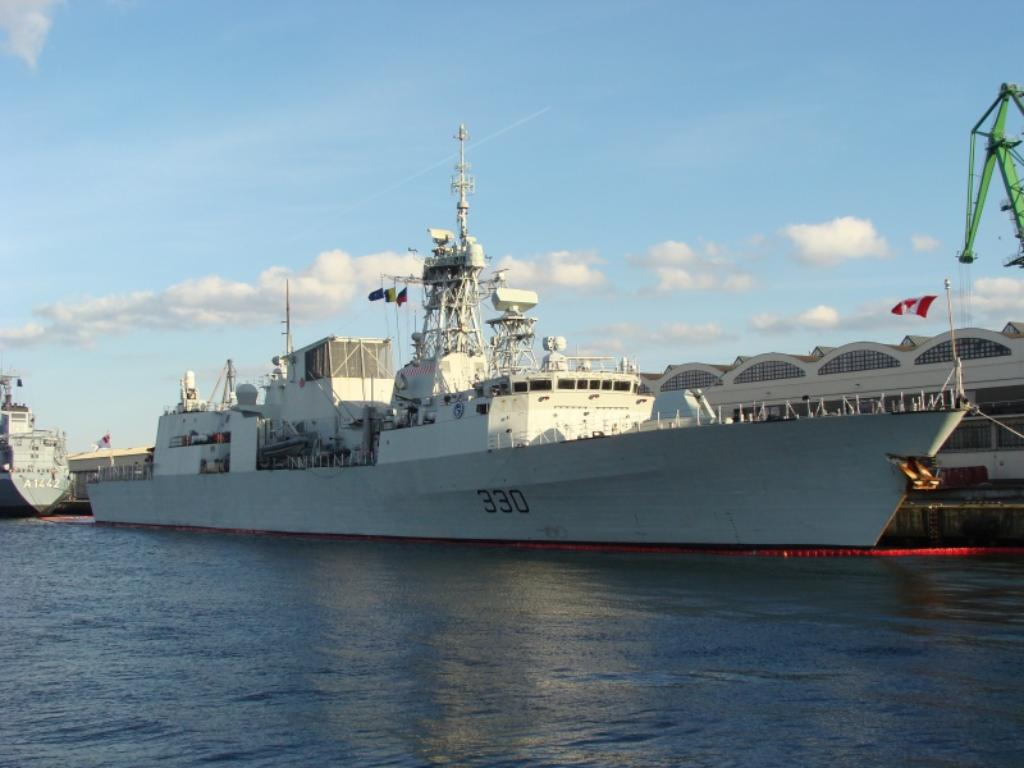Warship: (86, 116, 980, 556)
